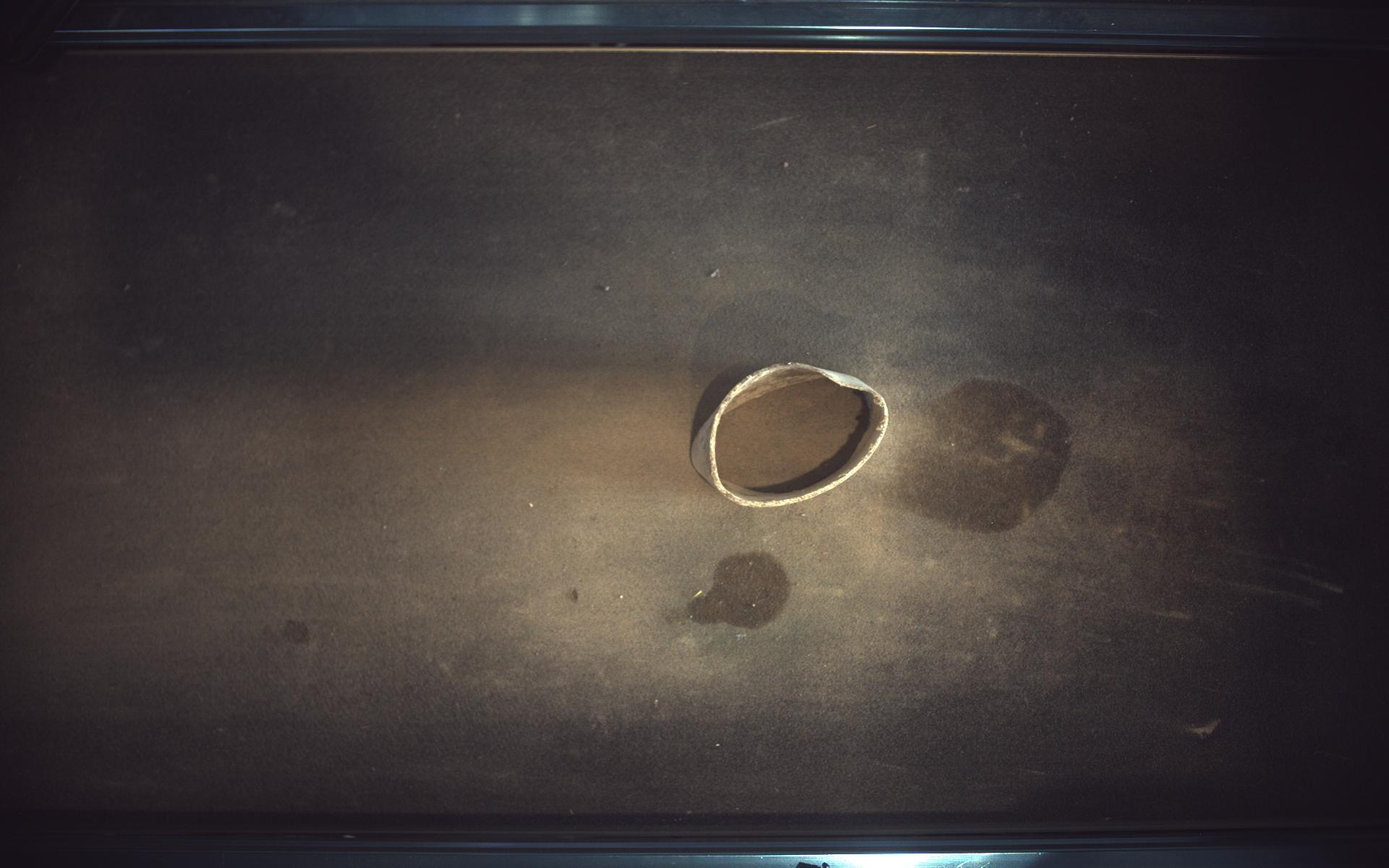plastic: (694, 363, 890, 508)
